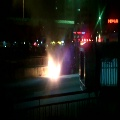fire: (45, 55, 60, 80)
